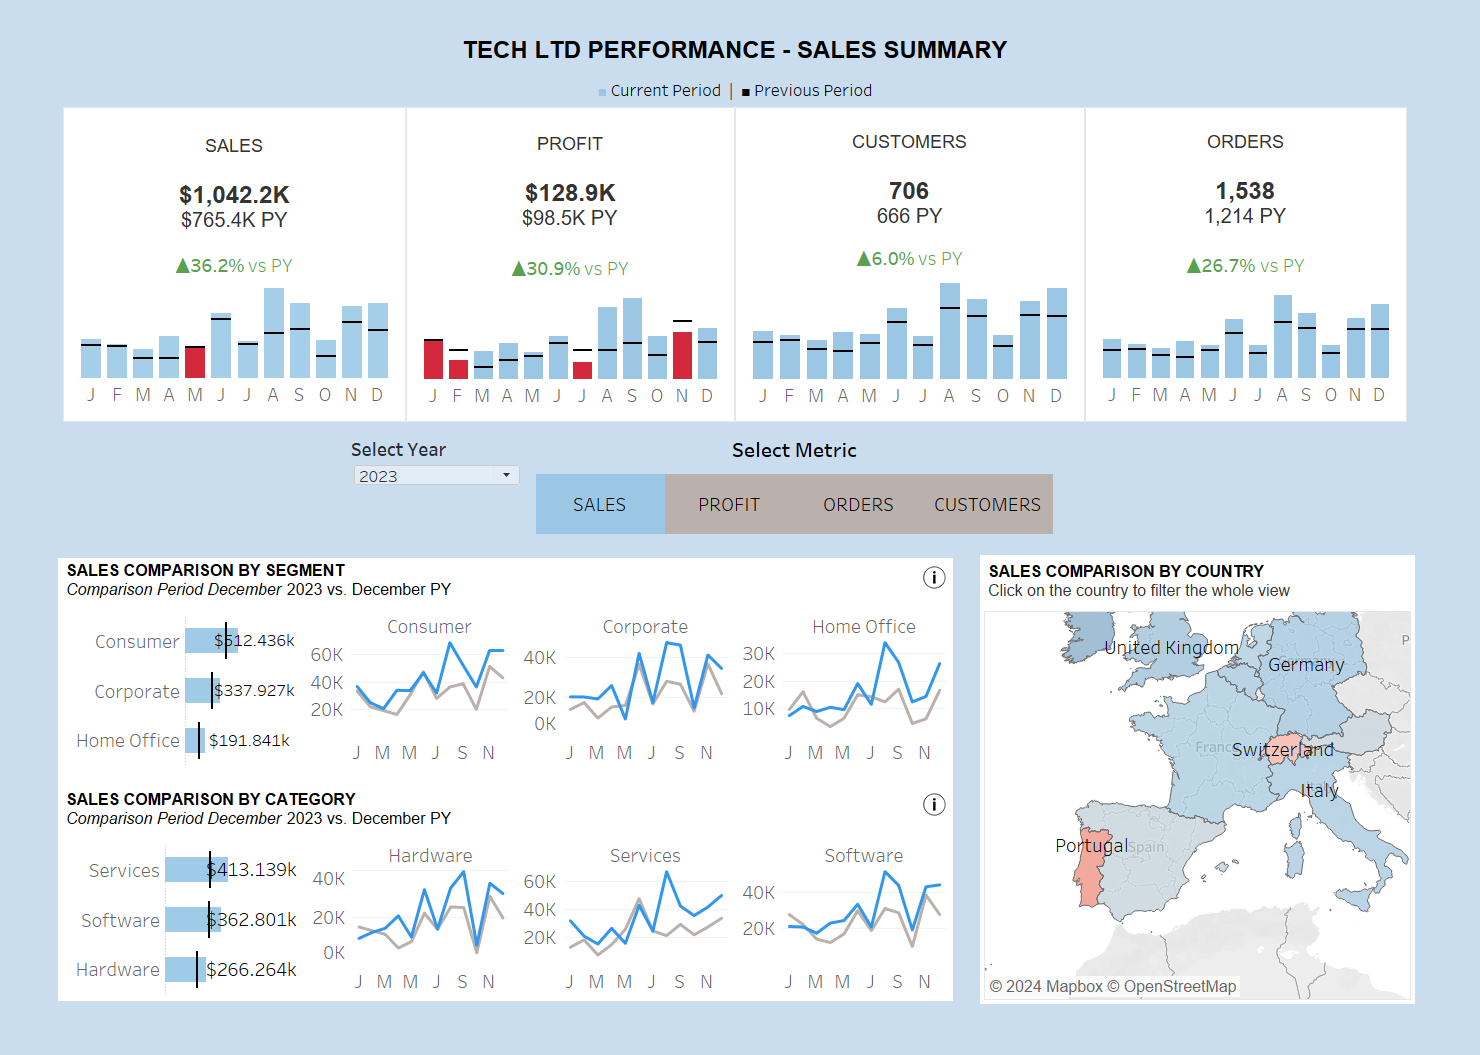

What the dashboard file says about the page in this screenshot:
{"tool":"tableau","page":{"name":"Executive Overview","canvas":[1400,1000],"ordinal":0},"visuals":[{"type":"text","box":[8,8,1384,35]},{"type":"text","box":[8,48.1,1384,35.1]},{"type":"worksheet","title":"Sales KPI","mark":"Automatic","box":[39,94.3,321,133]},{"type":"worksheet","title":"Profit KPI","mark":"Automatic","box":[382,94.3,307,128.8]},{"type":"worksheet","title":"Customers KPI","mark":"Automatic","box":[711,94.3,328,124.6]},{"type":"worksheet","title":"Orders KPI","mark":"Automatic","box":[1061,94.3,300,124.8]},{"type":"worksheet","title":"Customers KPI YOY","mark":"Automatic","box":[711,218.9,328,30.9]},{"type":"worksheet","title":"Orders KPI YOY","mark":"Automatic","box":[1061,219.1,300,44]},{"type":"worksheet","title":"Profit KPI YOY","mark":"Automatic","box":[382,223.1,307,42.4]},{"type":"worksheet","title":"Sales KPI YOY","mark":"Automatic","box":[39,227.2,321,28]},{"type":"worksheet","title":"Customers Bars","mark":"Automatic","rows":["# Orders Current Year (copy)_1081989865831092230","# Customers Current Year (copy)_1081989865831251975"],"cols":["Order Date"],"box":[711,249.8,328,137.5]},{"type":"worksheet","title":"Sales Bars","mark":"Automatic","rows":["Calculation_1081989865823518720","$ Sales Current Year (copy)_1081989865824870401"],"cols":["Order Date"],"box":[39,255.2,321,132.1]},{"type":"worksheet","title":"Orders Bars","mark":"Automatic","rows":["$ Profit Current Year (copy)_1081989865830248452","# Orders Current Year (copy)_1081989865830580229"],"cols":["Order Date"],"box":[1061,263.1,300,124.2]},{"type":"worksheet","title":"Profit Bars","mark":"Automatic","rows":["$ Sales Current Year (copy)_1081989865827373058","$ Sales Previous Year  (copy)_1081989865829691395"],"cols":["Order Date"],"box":[382,265.5,307,121.8]},{"type":"text","box":[13,403.3,294,110.5]},{"type":"parameter","param":"[Parameters].[Parameter 1]","box":[307,403.3,190,110.5]},{"type":"worksheet","title":"Select Metric","mark":"Square","cols":["Calculation_1081989865947533342","Calculation_1081989865947533342","Calculation_1081989865947533342","Calculation_1081989865947533342"],"box":[497,403.3,525,110.5]},{"type":"text","box":[1022,403.3,365,110.5]},{"type":"worksheet","title":"Map","mark":"Automatic","box":[945,530.9,435,449.1]},{"type":"text","box":[23,533.9,468.5,51]},{"type":"text","box":[491.5,533.9,426.5,51]},{"type":"dashboard-object","box":[887,539,24,28]},{"type":"worksheet","title":"Heatmap Segment","mark":"Square","rows":["Segment"],"cols":["Order Date"],"box":[28,581,884,173]},{"type":"worksheet","title":"Segment Comparison","mark":"Automatic","rows":["Segment"],"cols":["Calculation_777433941812600832","Selected  Metric Current Year (copy)_777433941813571585"],"box":[23,584.9,245,162.6]},{"type":"worksheet","title":"Segment 1","mark":"Automatic","cols":["Segment","Order Date"],"box":[268,584.9,213,162.6]},{"type":"worksheet","title":"Segment 2","mark":"Automatic","cols":["Segment","Order Date"],"box":[481,584.9,219,162.6]},{"type":"worksheet","title":"Segment 3","mark":"Automatic","cols":["Segment","Order Date"],"box":[700,584.9,217.9,162.6]},{"type":"text","box":[23,747.4,466.5,67]},{"type":"text","box":[489.5,747.4,428.5,67]},{"type":"dashboard-object","box":[887,764,24,33]},{"type":"worksheet","title":"Heatmap Category","mark":"Square","rows":["Category"],"cols":["Order Date"],"box":[26,809.4,888,162.3]},{"type":"worksheet","title":"Category Comparison","mark":"Automatic","rows":["Category"],"cols":["Calculation_777433941812600832","Selected  Metric Current Year (copy)_777433941813571585"],"box":[23,814.4,247,162.6]},{"type":"worksheet","title":"Category 1","mark":"Automatic","cols":["Category","Order Date"],"box":[270,814.4,211,162.6]},{"type":"worksheet","title":"Category 2","mark":"Automatic","cols":["Category","Order Date"],"box":[481,814.4,219,162.6]},{"type":"worksheet","title":"Category 3","mark":"Automatic","cols":["Category","Order Date"],"box":[700,814.4,217.9,162.6]}]}

Visuals, with their boxes in screenshot pixels (x1, y1, x2, y2), scaled from the page's 1400x1000 canvas onto the 1480x1055 screenshot:
text: x1=8 y1=8 x2=1472 y2=45
text: x1=8 y1=51 x2=1472 y2=88
"Sales KPI" worksheet: x1=41 y1=99 x2=381 y2=240
"Profit KPI" worksheet: x1=404 y1=99 x2=728 y2=235
"Customers KPI" worksheet: x1=752 y1=99 x2=1098 y2=231
"Orders KPI" worksheet: x1=1122 y1=99 x2=1439 y2=231
"Customers KPI YOY" worksheet: x1=752 y1=231 x2=1098 y2=264
"Orders KPI YOY" worksheet: x1=1122 y1=231 x2=1439 y2=278
"Profit KPI YOY" worksheet: x1=404 y1=235 x2=728 y2=280
"Sales KPI YOY" worksheet: x1=41 y1=240 x2=381 y2=269
"Customers Bars" worksheet: x1=752 y1=264 x2=1098 y2=409
"Sales Bars" worksheet: x1=41 y1=269 x2=381 y2=409
"Orders Bars" worksheet: x1=1122 y1=278 x2=1439 y2=409
"Profit Bars" worksheet: x1=404 y1=280 x2=728 y2=409
text: x1=14 y1=425 x2=325 y2=542
parameter: x1=325 y1=425 x2=525 y2=542
"Select Metric" worksheet (Square marks): x1=525 y1=425 x2=1080 y2=542
text: x1=1080 y1=425 x2=1466 y2=542
"Map" worksheet: x1=999 y1=560 x2=1459 y2=1034
text: x1=24 y1=563 x2=520 y2=617
text: x1=520 y1=563 x2=970 y2=617
dashboard-object: x1=938 y1=569 x2=963 y2=598
"Heatmap Segment" worksheet (Square marks): x1=30 y1=613 x2=964 y2=795
"Segment Comparison" worksheet: x1=24 y1=617 x2=283 y2=789
"Segment 1" worksheet: x1=283 y1=617 x2=508 y2=789
"Segment 2" worksheet: x1=508 y1=617 x2=740 y2=789
"Segment 3" worksheet: x1=740 y1=617 x2=970 y2=789
text: x1=24 y1=789 x2=517 y2=859
text: x1=517 y1=789 x2=970 y2=859
dashboard-object: x1=938 y1=806 x2=963 y2=841
"Heatmap Category" worksheet (Square marks): x1=27 y1=854 x2=966 y2=1025
"Category Comparison" worksheet: x1=24 y1=859 x2=285 y2=1031
"Category 1" worksheet: x1=285 y1=859 x2=508 y2=1031
"Category 2" worksheet: x1=508 y1=859 x2=740 y2=1031
"Category 3" worksheet: x1=740 y1=859 x2=970 y2=1031
